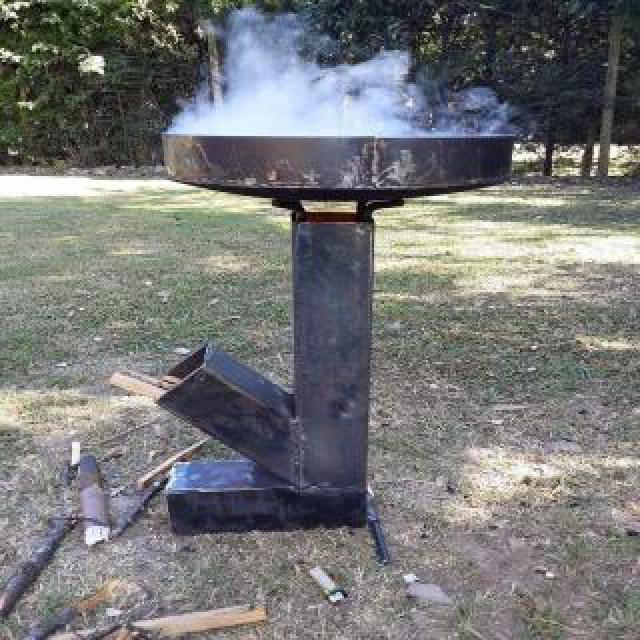smoke: (170, 2, 520, 140)
